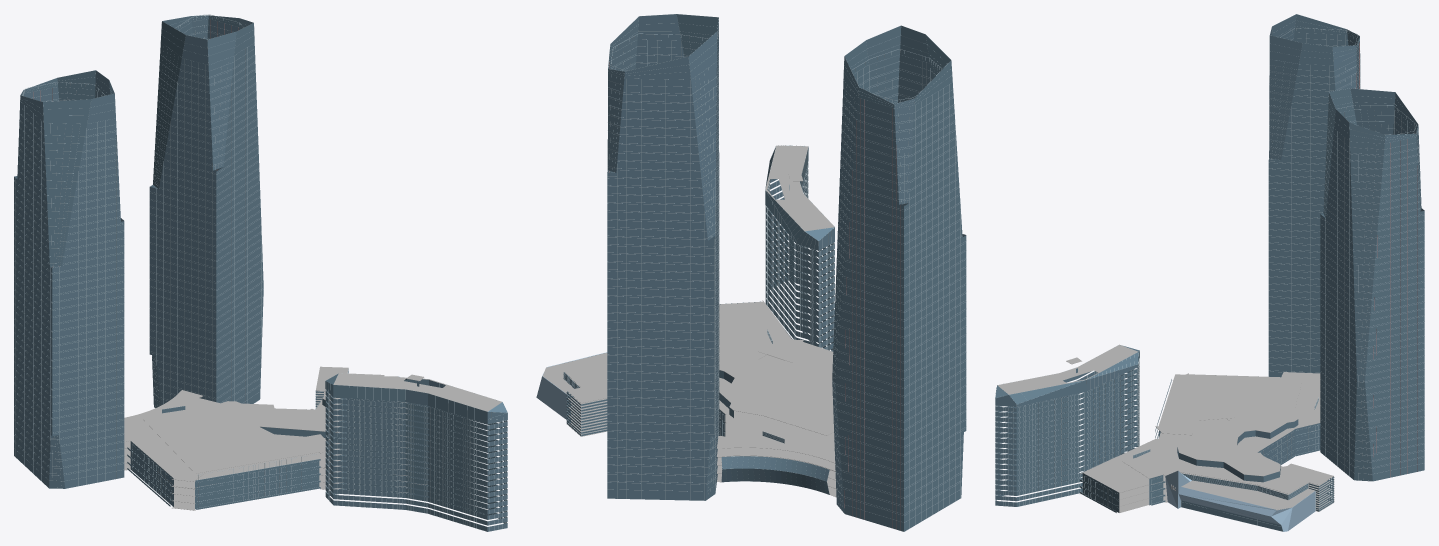
Rendered from lujiazui-16.glb.
The picture shows the model from 3 angles, left to right: view 1: azimuth 30°, elevation 25°; view 2: azimuth 150°, elevation 25°; view 3: azimuth 270°, elevation 25°; orthographic projection. The views are drawn at different scales.
Parts seen in each view (by area): view 1: source_2877_Mat3d66-1303573-2170-3213_part0, source_2875_Mat3d66-1303573-2119-613_part1, source_2878_Mat3d66-1303573-2153-4388_part0, source_2875_Mat3d66-1303573-2119-613_part0, source_2881_Mat3d66-1303573-2170-3213_part0, source_2882_Mat3d66-1303573-2119-613_part0; view 2: source_2877_Mat3d66-1303573-2170-3213_part0, source_2875_Mat3d66-1303573-2119-613_part1, source_2878_Mat3d66-1303573-2153-4388_part0, source_2875_Mat3d66-1303573-2119-613_part0, source_2876_墙二_part0, source_2879_Mat3d66-1303573-261-735_part0; view 3: source_2877_Mat3d66-1303573-2170-3213_part0, source_2878_Mat3d66-1303573-2153-4388_part0, source_2875_Mat3d66-1303573-2119-613_part1, source_2875_Mat3d66-1303573-2119-613_part0, source_2879_Mat3d66-1303573-261-735_part0, source_2876_墙二_part0, source_2881_Mat3d66-1303573-2170-3213_part0.
Part boxes in pixels (<box>): source_2877_Mat3d66-1303573-2170-3213_part0: <box>14,15,507,531</box>; source_2875_Mat3d66-1303573-2119-613_part1: <box>14,15,506,531</box>; source_2878_Mat3d66-1303573-2153-4388_part0: <box>124,366,501,510</box>; source_2875_Mat3d66-1303573-2119-613_part0: <box>132,371,507,525</box>; source_2881_Mat3d66-1303573-2170-3213_part0: <box>127,447,320,509</box>; source_2882_Mat3d66-1303573-2119-613_part0: <box>22,14,321,508</box>; source_2877_Mat3d66-1303573-2170-3213_part0: <box>563,14,966,531</box>; source_2875_Mat3d66-1303573-2119-613_part1: <box>563,14,966,528</box>; source_2878_Mat3d66-1303573-2153-4388_part0: <box>543,145,836,496</box>; source_2875_Mat3d66-1303573-2119-613_part0: <box>566,145,834,489</box>; source_2876_墙二_part0: <box>609,62,900,530</box>; source_2879_Mat3d66-1303573-261-735_part0: <box>536,352,606,422</box>; source_2877_Mat3d66-1303573-2170-3213_part0: <box>995,14,1424,531</box>; source_2878_Mat3d66-1303573-2153-4388_part0: <box>997,344,1333,512</box>; source_2875_Mat3d66-1303573-2119-613_part1: <box>995,14,1424,506</box>; source_2875_Mat3d66-1303573-2119-613_part0: <box>995,345,1334,531</box>; source_2879_Mat3d66-1303573-261-735_part0: <box>1165,471,1315,531</box>; source_2876_墙二_part0: <box>1356,42,1417,477</box>; source_2881_Mat3d66-1303573-2170-3213_part0: <box>1080,379,1320,512</box>.
Size of the model in its own units: 236 by 240 by 260.
